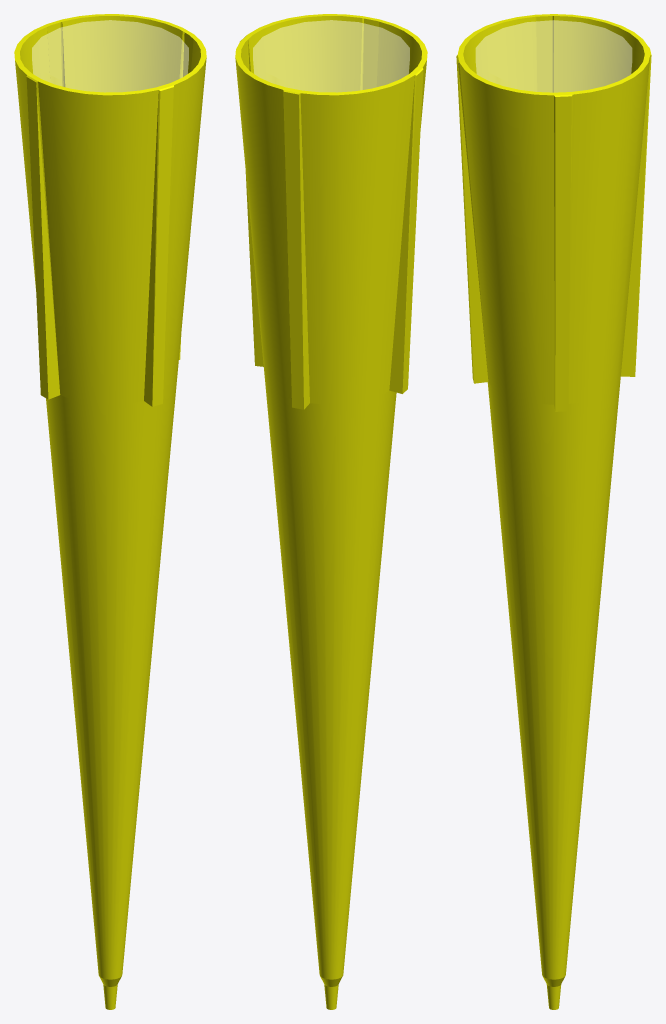
File: tip100.glb
3 renders of one model, left to right at view 1: azimuth 30°, elevation 25°; view 2: azimuth 150°, elevation 25°; view 3: azimuth 270°, elevation 25°, orthographic.
Visible parts, largest first — view 1: surface, liquid; view 2: surface, liquid; view 3: surface, liquid.
Part boxes in pixels (x1,y1,x2,y2): surface: (14,14,206,1009); liquid: (32,20,188,92); surface: (235,14,427,1009); liquid: (253,20,409,92); surface: (456,14,651,1009); liquid: (476,20,631,92).
Bounding box in the file's own units: 0.9262 × 5 × 0.9262.
